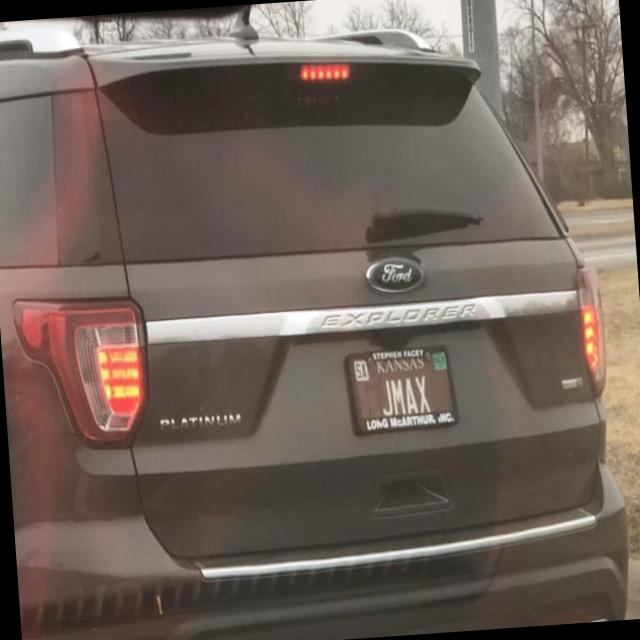LicensePlate: (345, 345, 459, 434)
